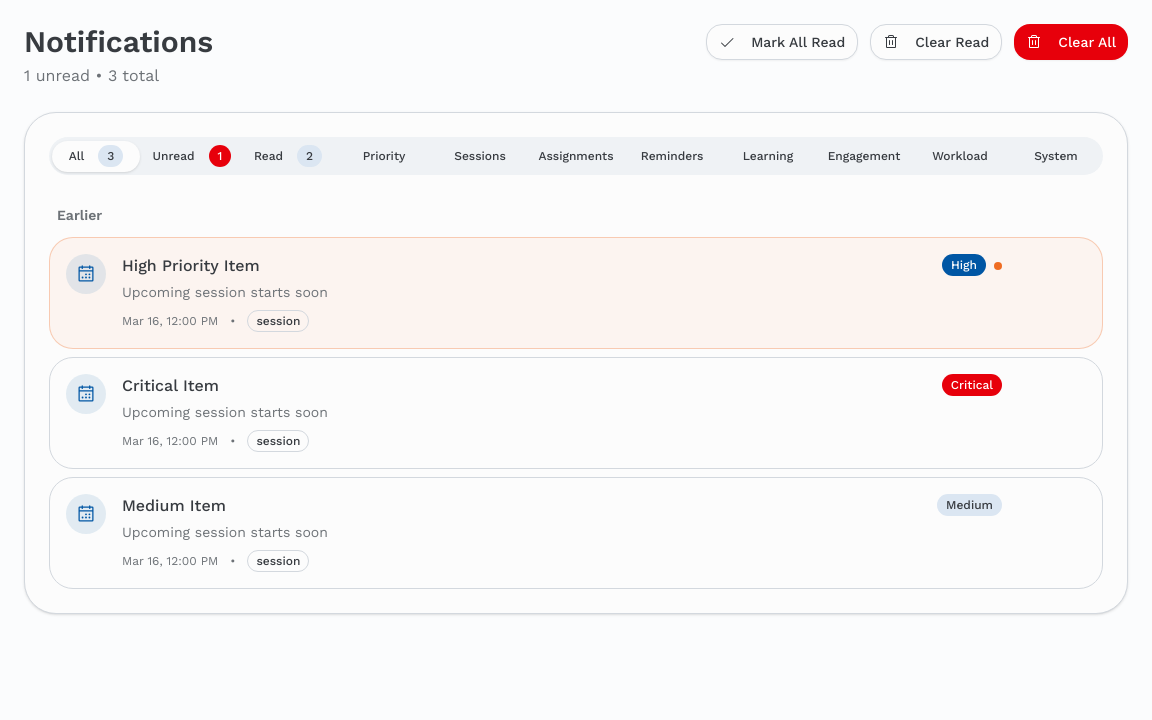
Test: Notifications › filters notifications by high priority tab
Step 1. Click the tab "Priority" → click(384, 156), box [340,140,428,172]
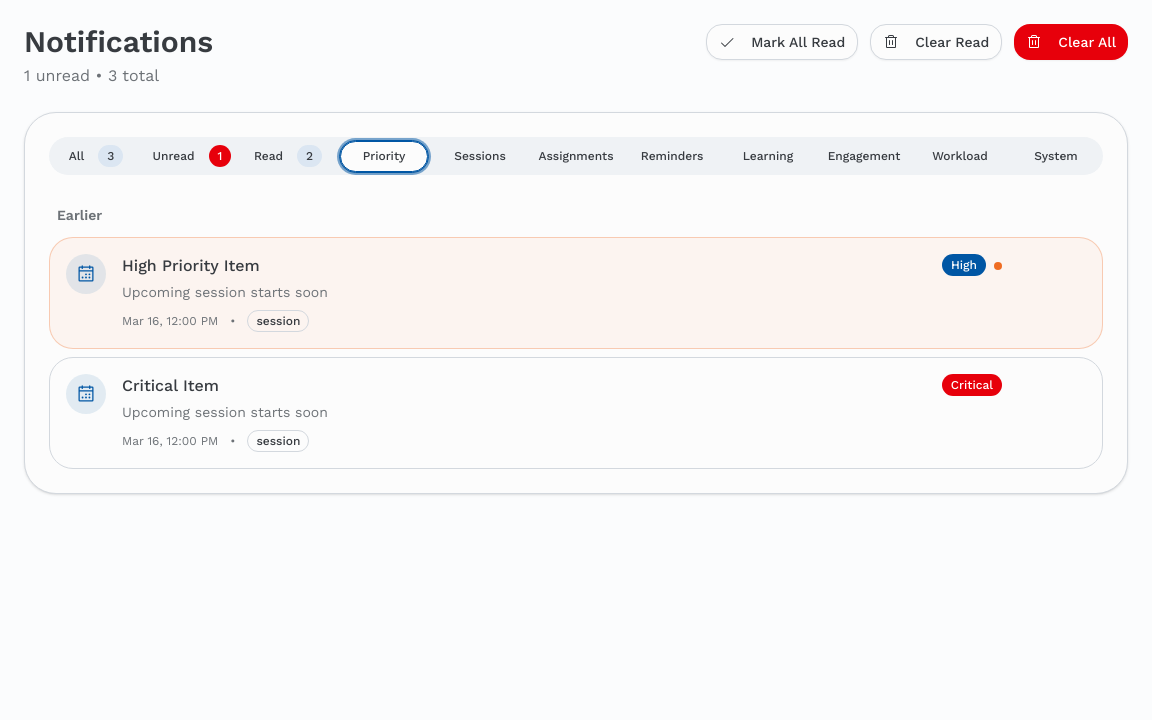
Expected: the text "High Priority Item" is shown, [122,256,260,275]
Expected: the button "Medium Item" is gone
